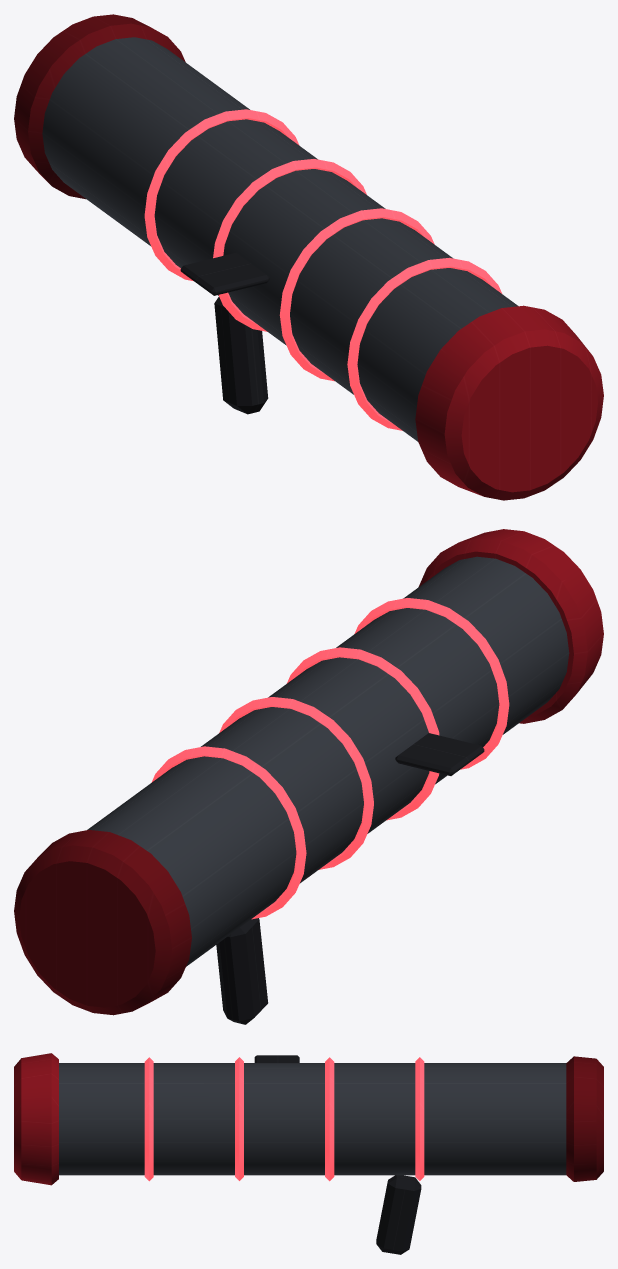
File: gear_energy_launcher.glb
3 renders of one model, top to bottom at view 1: azimuth 30°, elevation 25°; view 2: azimuth 150°, elevation 25°; view 3: azimuth 270°, elevation 25°, orthographic. The views are drawn at different scales.
Visible parts, largest first — view 1: Launcher_Tube, Launcher_Bell, Launcher_Rear, Launcher_Grip, Launcher_Ring0, Launcher_Ring1, Launcher_Ring3, Launcher_Ring2, Launcher_SightMesh; view 2: Launcher_Tube, Launcher_Rear, Launcher_Bell, Launcher_Grip, Launcher_Ring3, Launcher_Ring2, Launcher_Ring0, Launcher_Ring1, Launcher_SightMesh; view 3: Launcher_Tube, Launcher_Bell, Launcher_Rear, Launcher_Grip, Launcher_Ring0, Launcher_Ring2, Launcher_Ring3, Launcher_Ring1, Launcher_SightMesh.
Boxes of the visible parts, <box> form: Launcher_Tube: <box>42,37,518,441</box>; Launcher_Bell: <box>415,305,603,500</box>; Launcher_Rear: <box>14,14,185,199</box>; Launcher_Grip: <box>214,297,268,414</box>; Launcher_Ring0: <box>347,257,502,430</box>; Launcher_Ring1: <box>279,208,434,381</box>; Launcher_Ring3: <box>144,109,299,281</box>; Launcher_Ring2: <box>213,159,366,331</box>; Launcher_SightMesh: <box>180,252,269,295</box>; Launcher_Tube: <box>87,556,569,966</box>; Launcher_Rear: <box>14,830,191,1015</box>; Launcher_Bell: <box>418,529,603,723</box>; Launcher_Grip: <box>216,918,268,1024</box>; Launcher_Ring3: <box>151,746,306,919</box>; Launcher_Ring2: <box>219,697,373,869</box>; Launcher_Ring0: <box>354,598,509,769</box>; Launcher_Ring1: <box>287,647,439,820</box>; Launcher_SightMesh: <box>395,733,484,775</box>; Launcher_Tube: <box>59,1063,566,1175</box>; Launcher_Bell: <box>14,1053,58,1185</box>; Launcher_Rear: <box>566,1056,603,1181</box>; Launcher_Grip: <box>376,1175,421,1254</box>; Launcher_Ring0: <box>144,1057,153,1181</box>; Launcher_Ring2: <box>325,1057,334,1181</box>; Launcher_Ring3: <box>415,1057,424,1180</box>; Launcher_Ring1: <box>235,1057,243,1180</box>; Launcher_SightMesh: <box>254,1055,299,1062</box>.
Bounding box in the file's own units: 0.2284 × 0.2847 × 0.785.
Materials: 6 (6 with a texture image).
